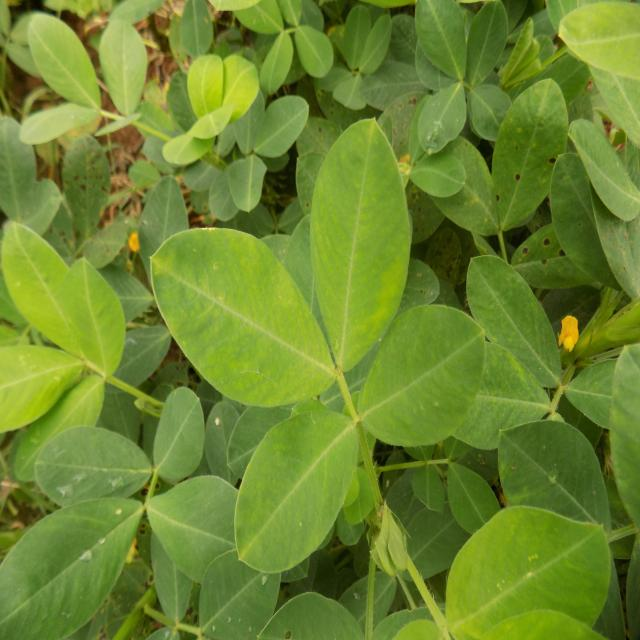Ground nut_healthy: (147, 227, 340, 404), (311, 111, 410, 389), (438, 497, 610, 640), (239, 404, 354, 566), (358, 310, 483, 443), (2, 219, 94, 367), (150, 476, 252, 596), (38, 431, 164, 503), (30, 14, 96, 125), (571, 118, 640, 221), (149, 384, 209, 480), (105, 22, 144, 117)
Ground nut_tikka leaf spot: (64, 121, 112, 221)
